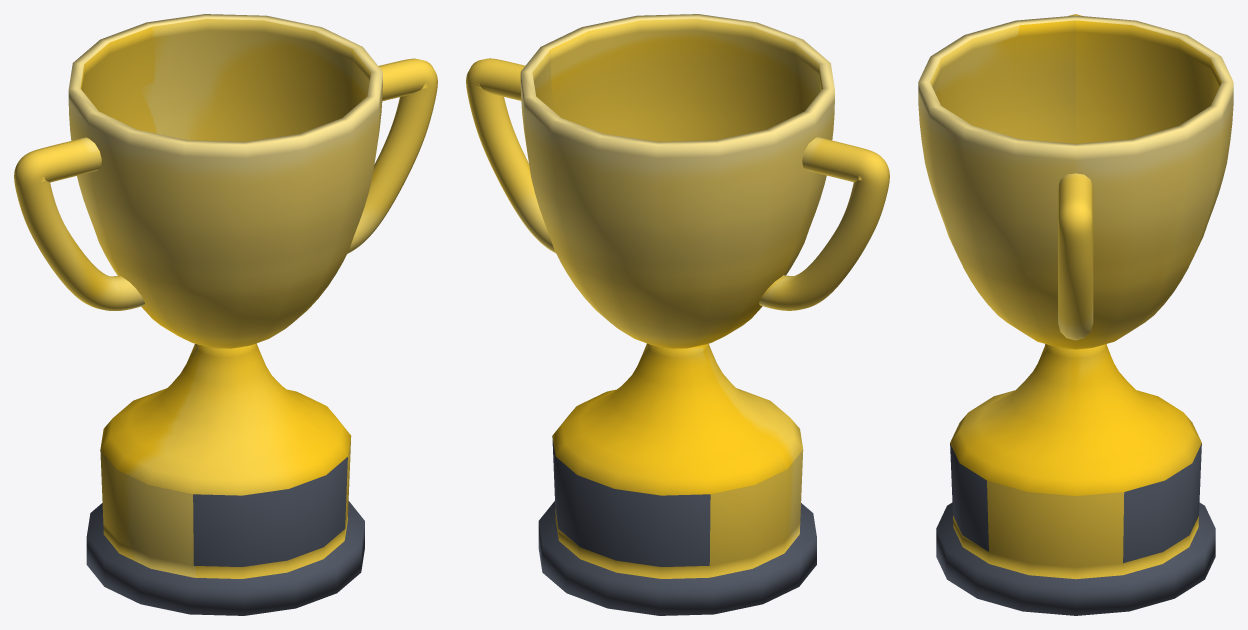
File: trophy2.glb
3 views of the same model, side by side, from view 1: azimuth 30°, elevation 25°; view 2: azimuth 150°, elevation 25°; view 3: azimuth 270°, elevation 25° (orthographic).
Visible parts, largest first — view 1: NurbsPath; view 2: NurbsPath; view 3: NurbsPath.
Part boxes in pixels (bbox=[...]): NurbsPath: bbox=[14, 14, 437, 615]; NurbsPath: bbox=[466, 14, 889, 615]; NurbsPath: bbox=[918, 14, 1233, 615].
Bounding box in the file's own units: 1.72 × 1.88 × 1.13.
2 materials, 1 textured.
